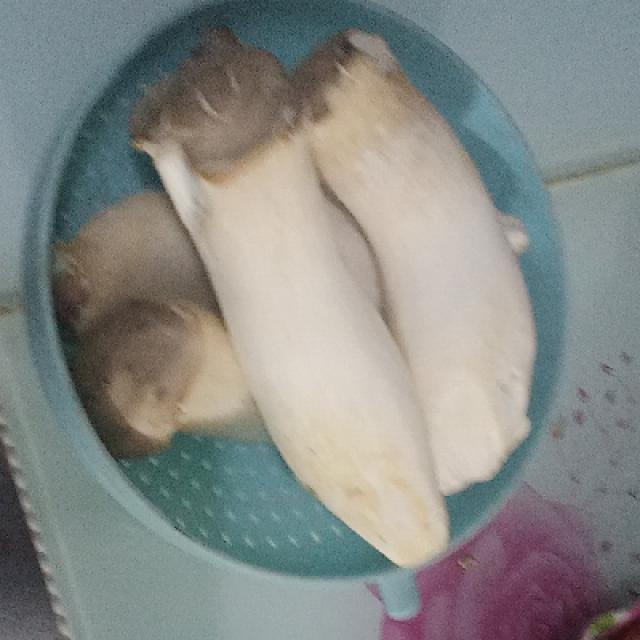Pleurotus eryngii: (66, 30, 532, 569)
